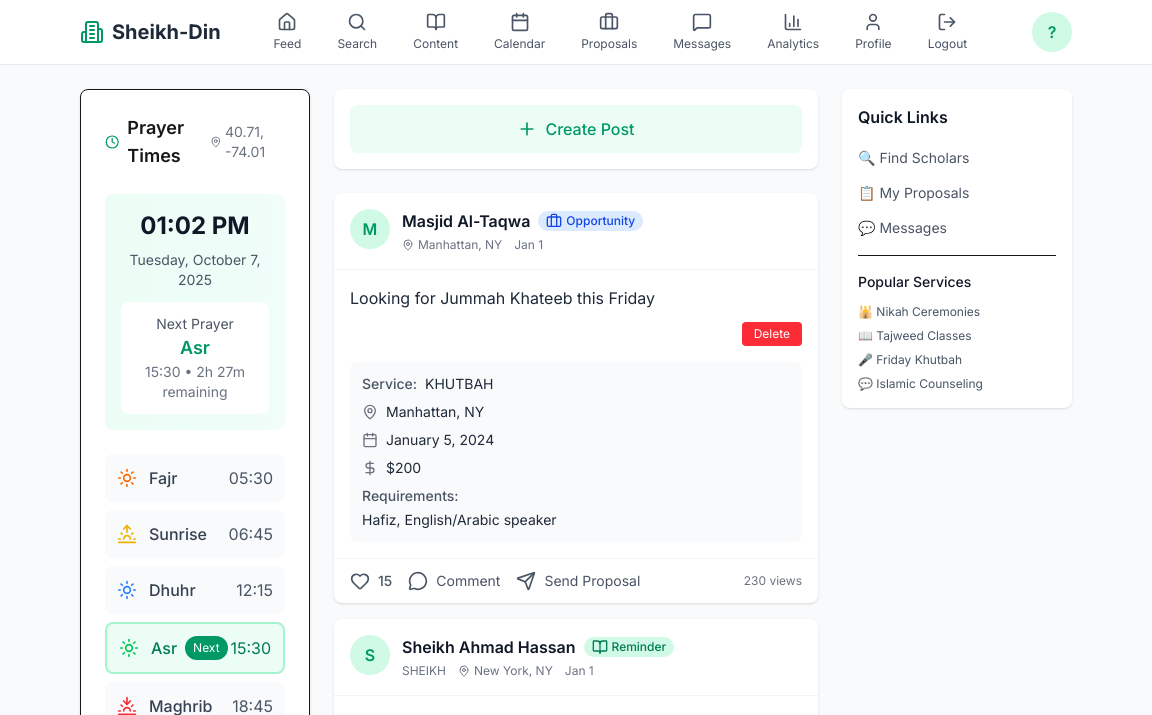
Feed System › Post Creation › should validate required fields when creating post
Click the button "Create Post". click: [576, 129]
box: [350, 105, 802, 153]
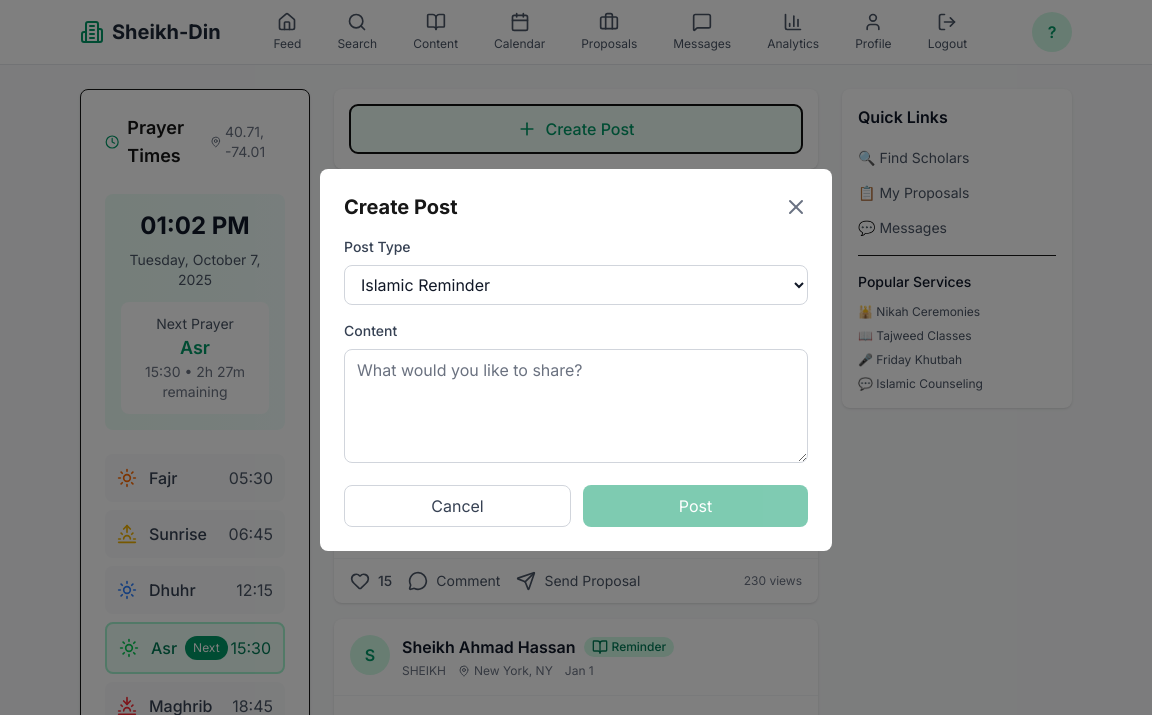
Result: the button "Post" is disabled at [583, 485, 808, 527]
